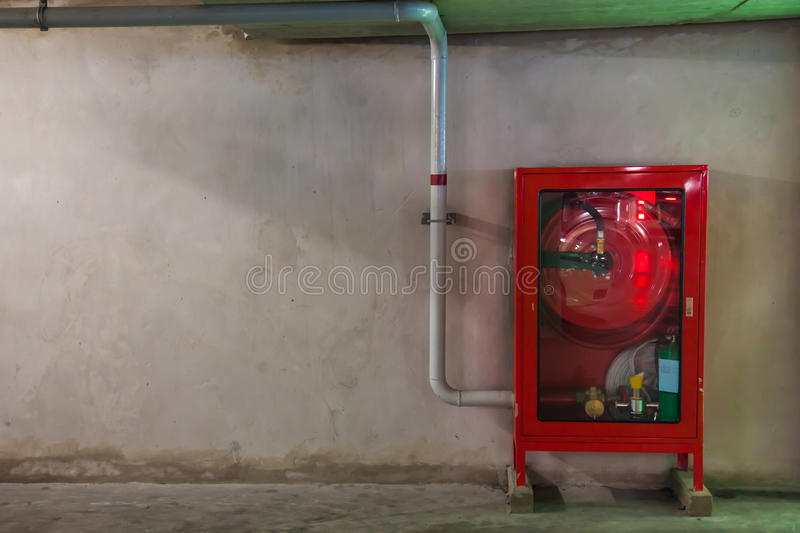fire_extinguisher: (510, 163, 711, 515), (537, 188, 683, 423)
